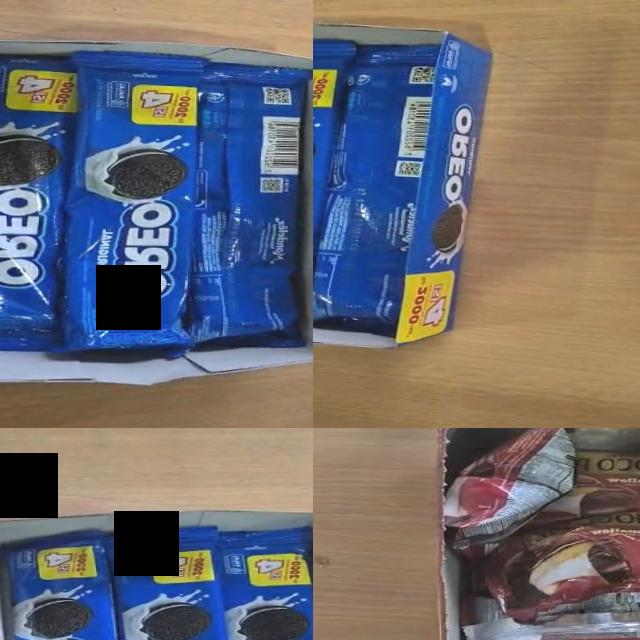Chocopie: (475, 501, 640, 626), (442, 428, 575, 557), (523, 446, 640, 531), (458, 585, 640, 629), (460, 608, 640, 640)
Oreo: (65, 51, 207, 352), (313, 43, 441, 337), (191, 63, 313, 345), (0, 55, 76, 350), (97, 523, 263, 640), (0, 526, 143, 640), (313, 36, 356, 330), (212, 523, 313, 640)
